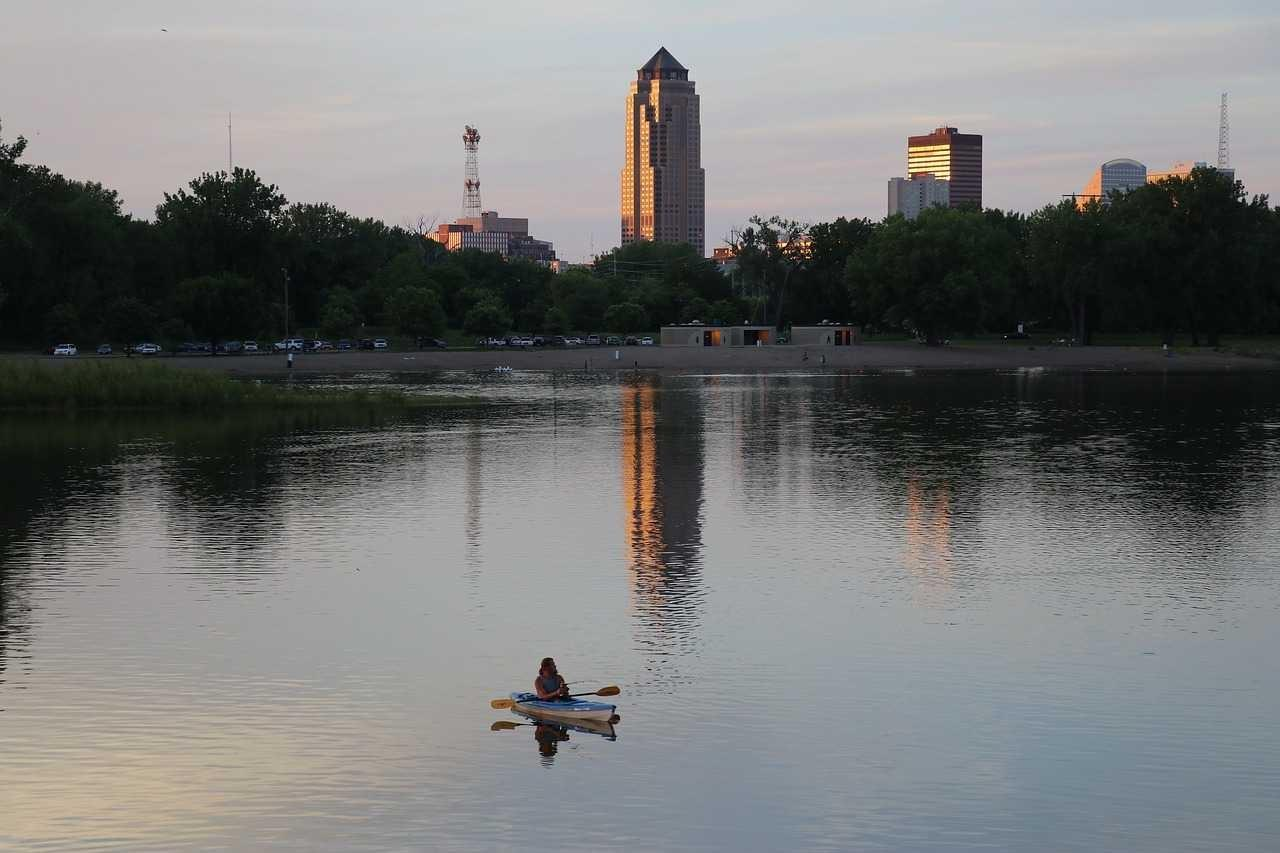kayak: (491, 691, 621, 728)
